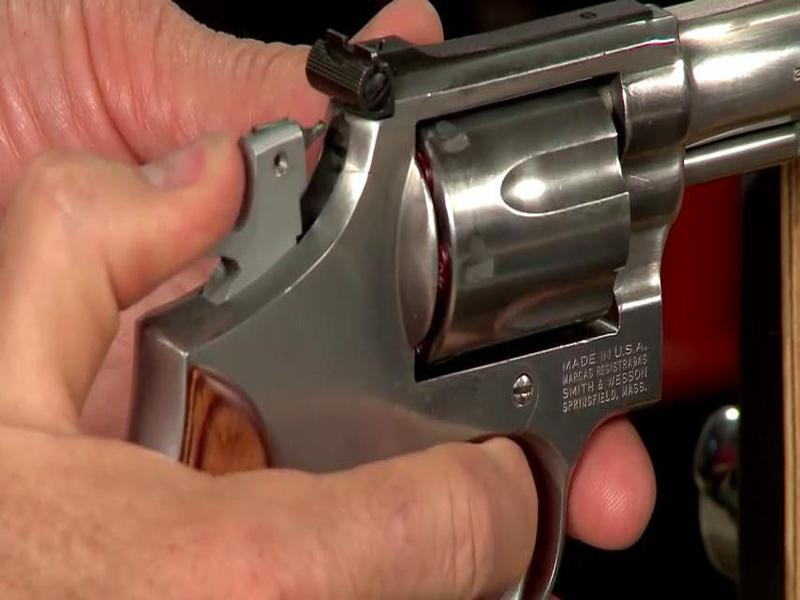Revolver: (109, 1, 779, 520)
